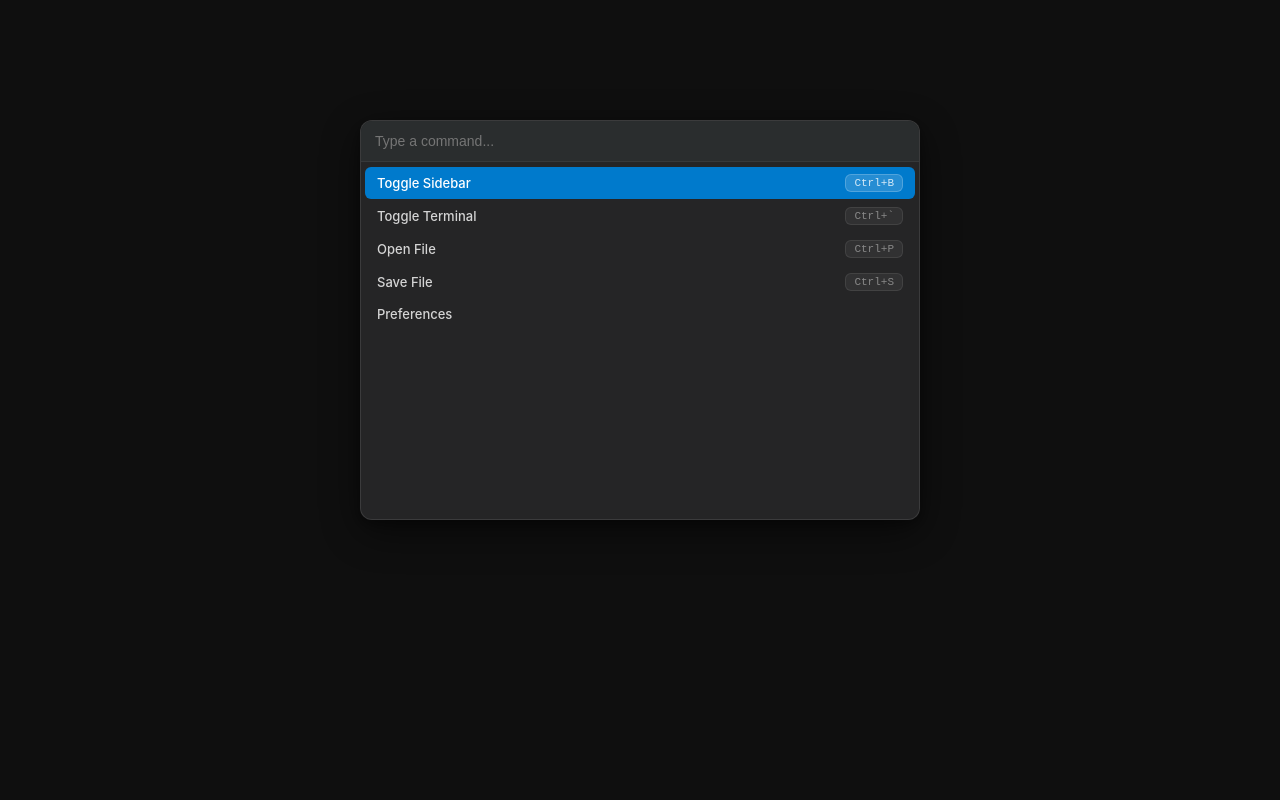
Test case: CommandPalette › filters commands by fuzzy match
Type "toggle" into the field at (640, 142), box [361,121,919,162]
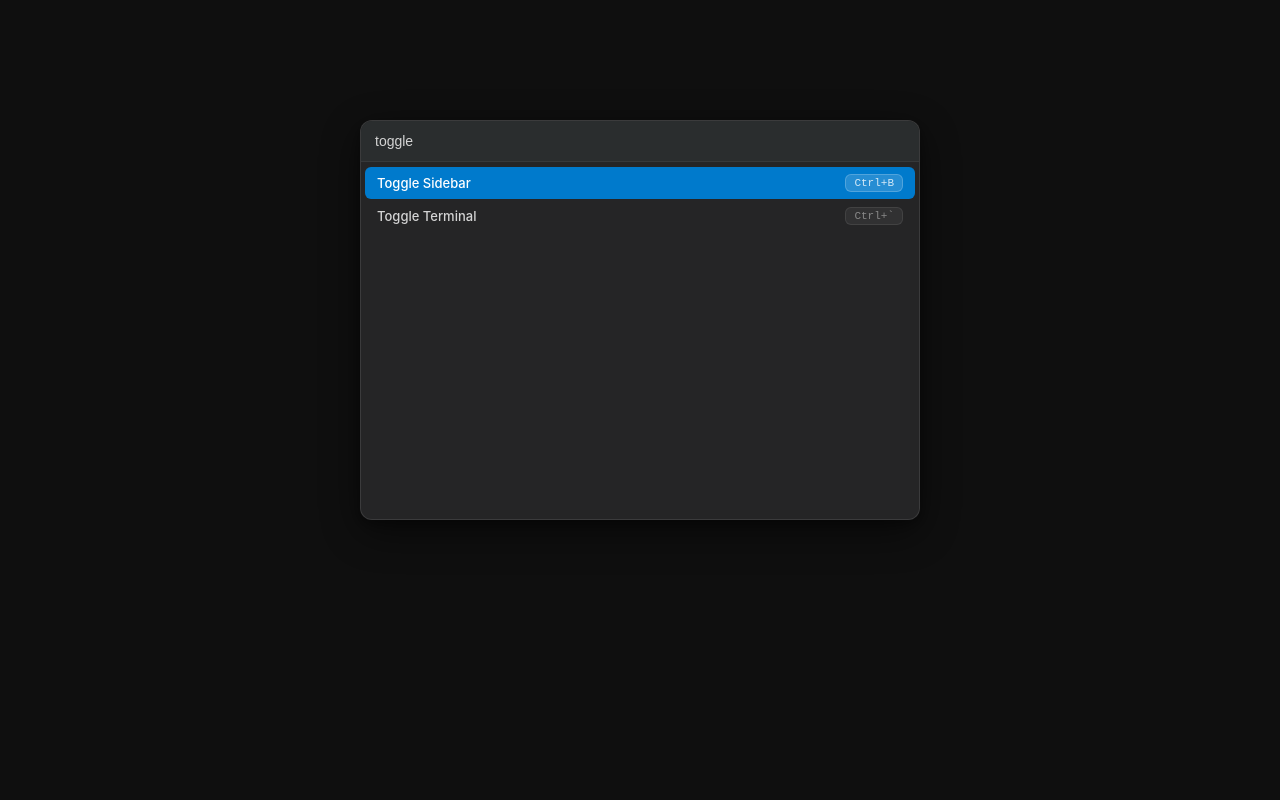
Expected: the text "Toggle Sidebar" is shown, [377,175,471,191]
Result: the text "Save File" is gone
Result: the text "Preferences" is gone
